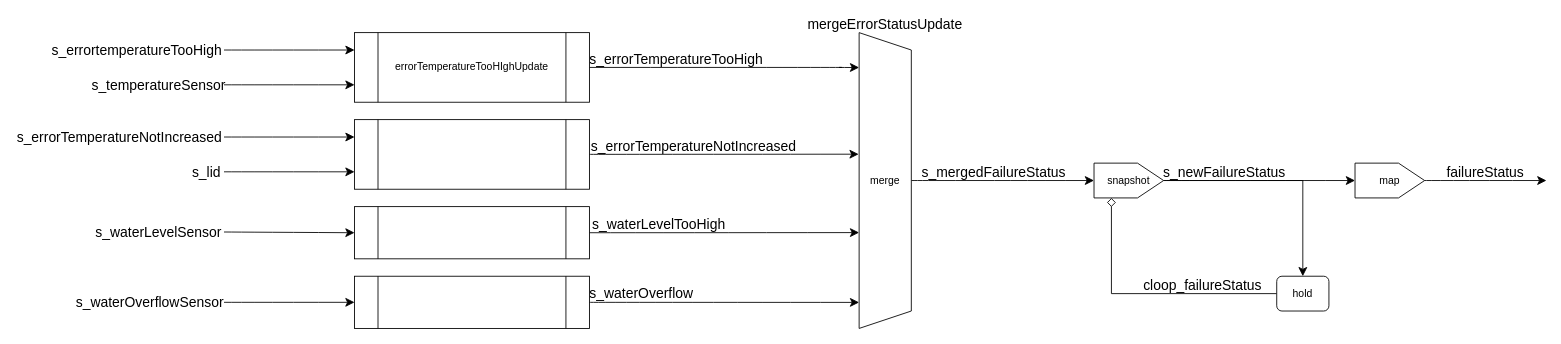
The diagram is 1561 pixels wide and 344 high, and some of its shapes have lost their labels. Here are the shapes that lost their labels. From the top down, the centre of each, then its label:
pixel 471 154: errorTemmperatureNotIncreasedUpdate
pixel 471 232: s_waterLevelTooLowUpdate
pixel 471 301: s_waterOverflowUpdate
